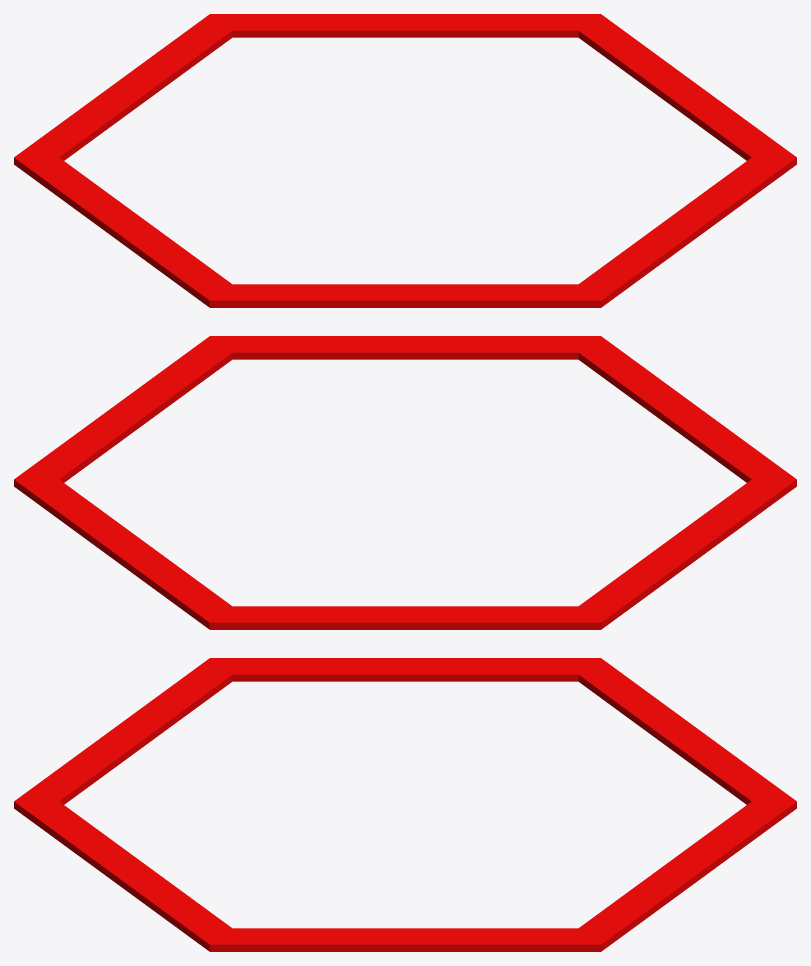
File: Marker.fbx
3 views of the same model, one above another, from view 1: azimuth 30°, elevation 25°; view 2: azimuth 150°, elevation 25°; view 3: azimuth 270°, elevation 25° (orthographic).
Visible parts, largest first — view 1: Circle; view 2: Circle; view 3: Circle.
Boxes of the visible parts, bbox=[...] form: Circle: bbox=[14, 14, 796, 307]; Circle: bbox=[14, 336, 796, 629]; Circle: bbox=[14, 658, 796, 951].
Bounding box in the file's own units: 173 × 2 × 200.
